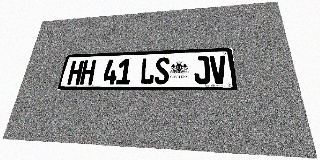1: (116, 59, 132, 85)
4: (102, 59, 119, 85)
H: (67, 60, 84, 85), (79, 60, 96, 85)
J: (194, 56, 211, 84)
L: (139, 58, 155, 84)
S: (154, 57, 170, 84)
V: (209, 55, 228, 84)
